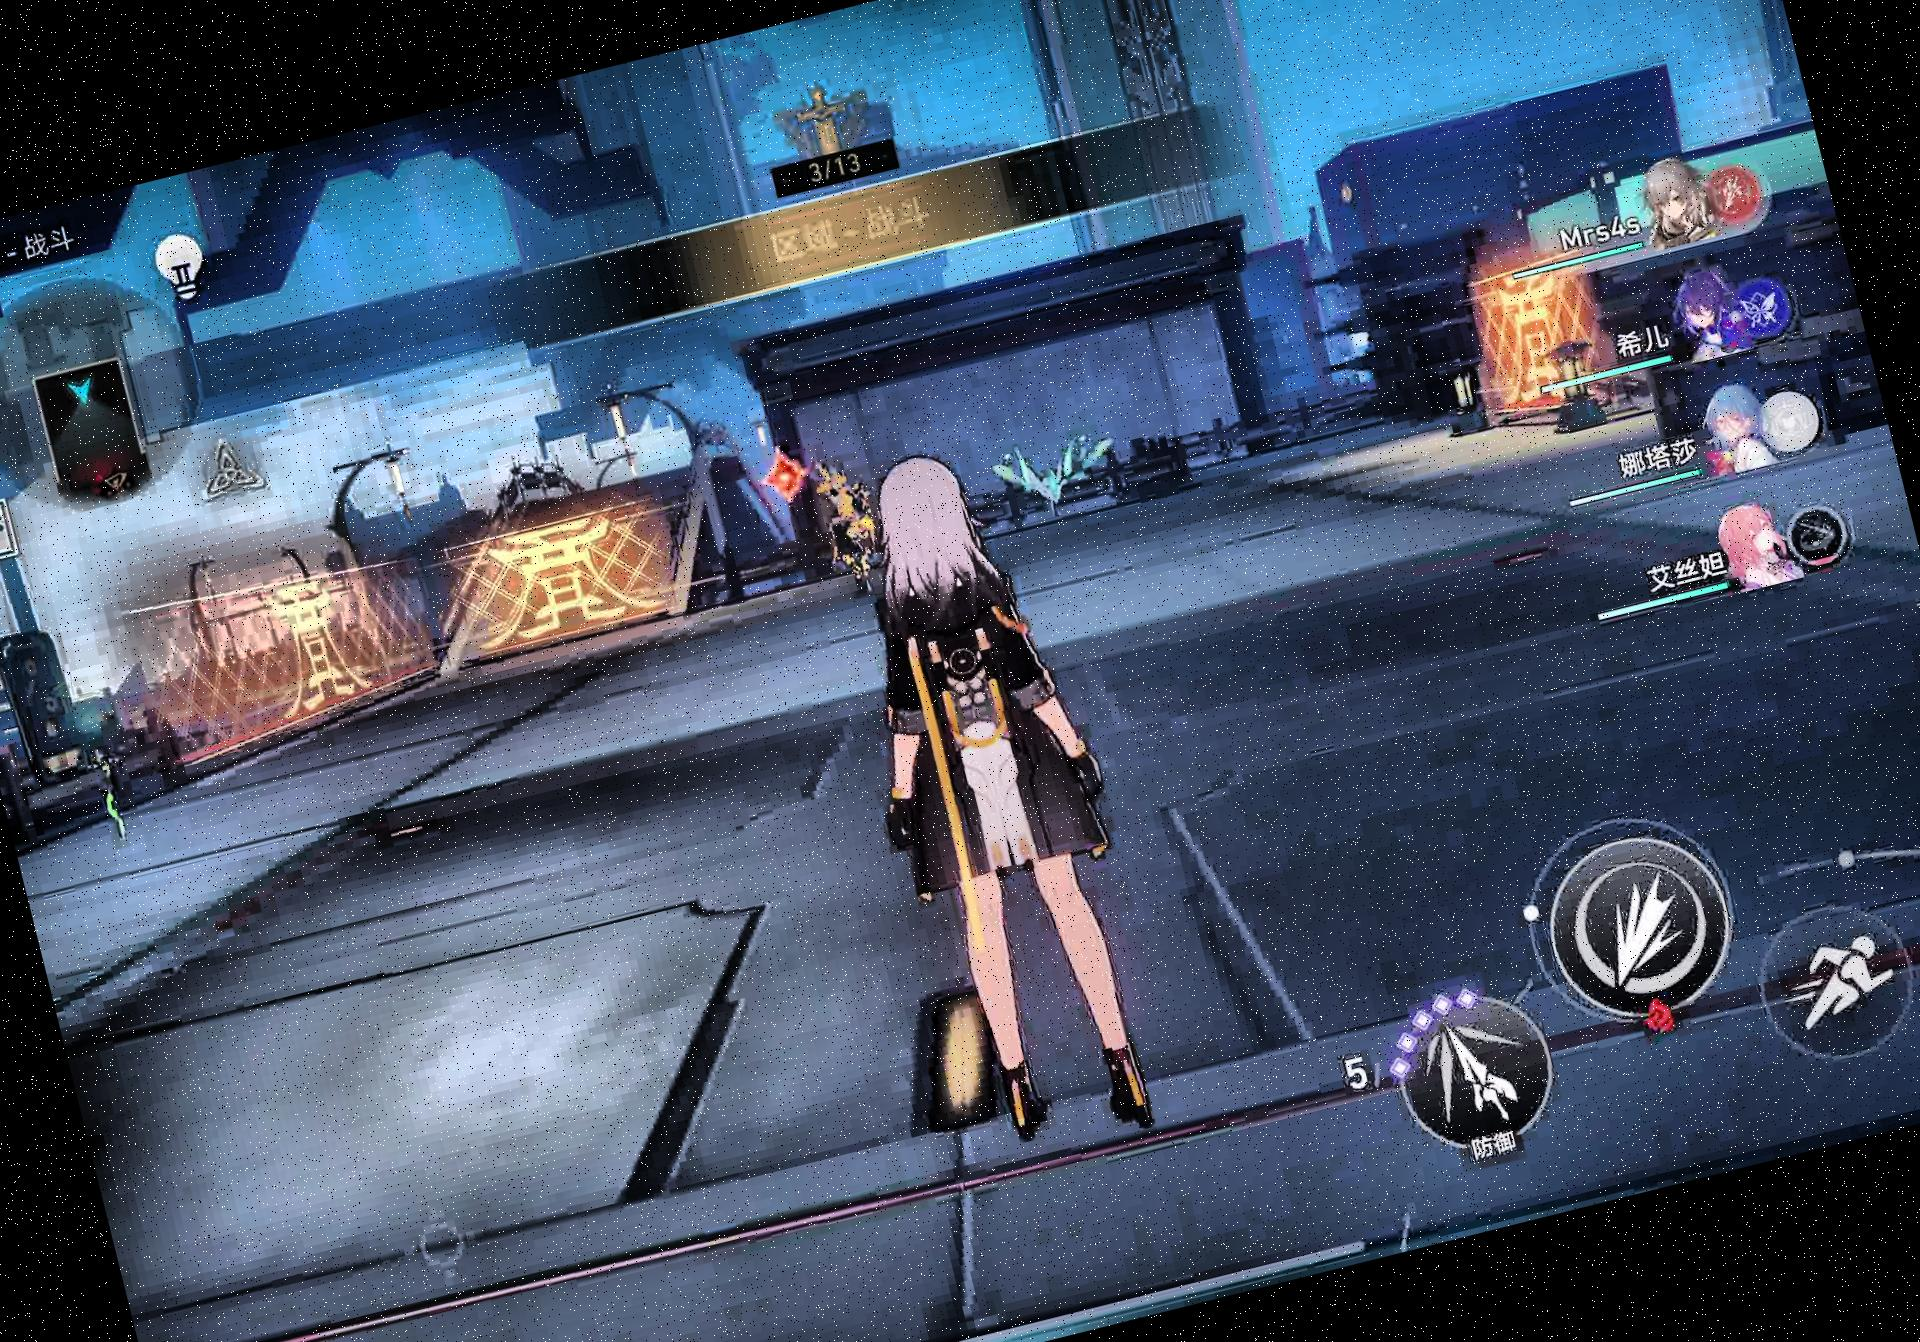Enemy: (983, 417, 1135, 519), (810, 449, 891, 594)
Self: (811, 432, 1183, 1167), (744, 446, 814, 512)
